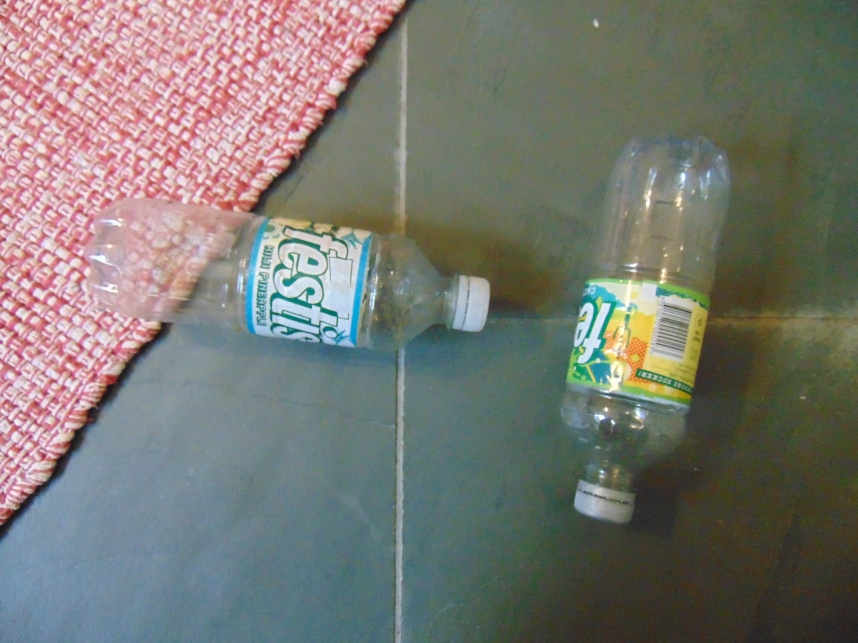plastic_bottle: (559, 129, 730, 526), (84, 196, 493, 351)
